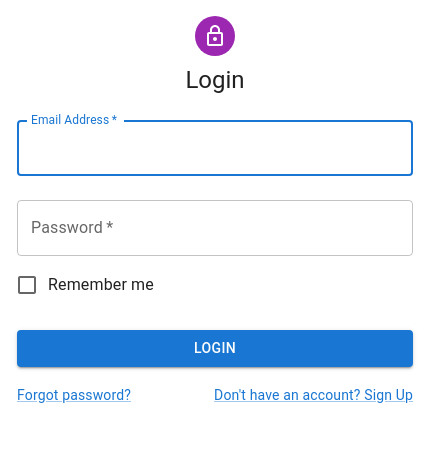
Test: it should validate the email format (@ & domain value)
// type email
Type "asdasdasd" into the field labelled "Email Address *" at (215,148), box [17, 120, 413, 176]
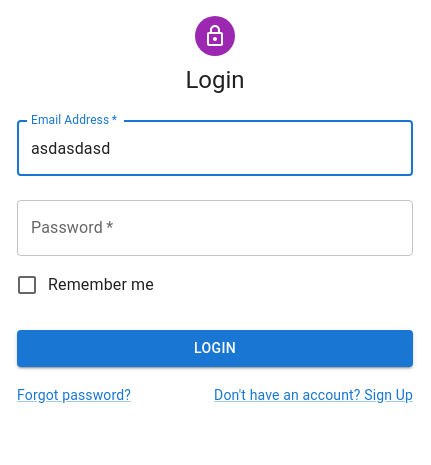
Click the button "Login" at (215,348), box [17, 330, 413, 366]
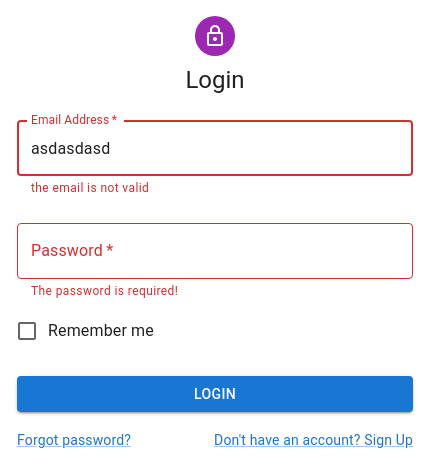
Expected: the text "the email is not valid" is shown, [31, 181, 149, 195]
